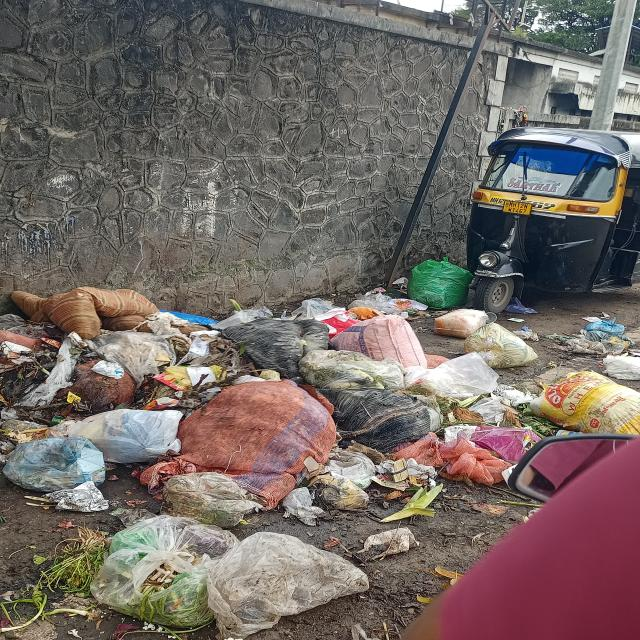garbage: (6, 281, 637, 640)
